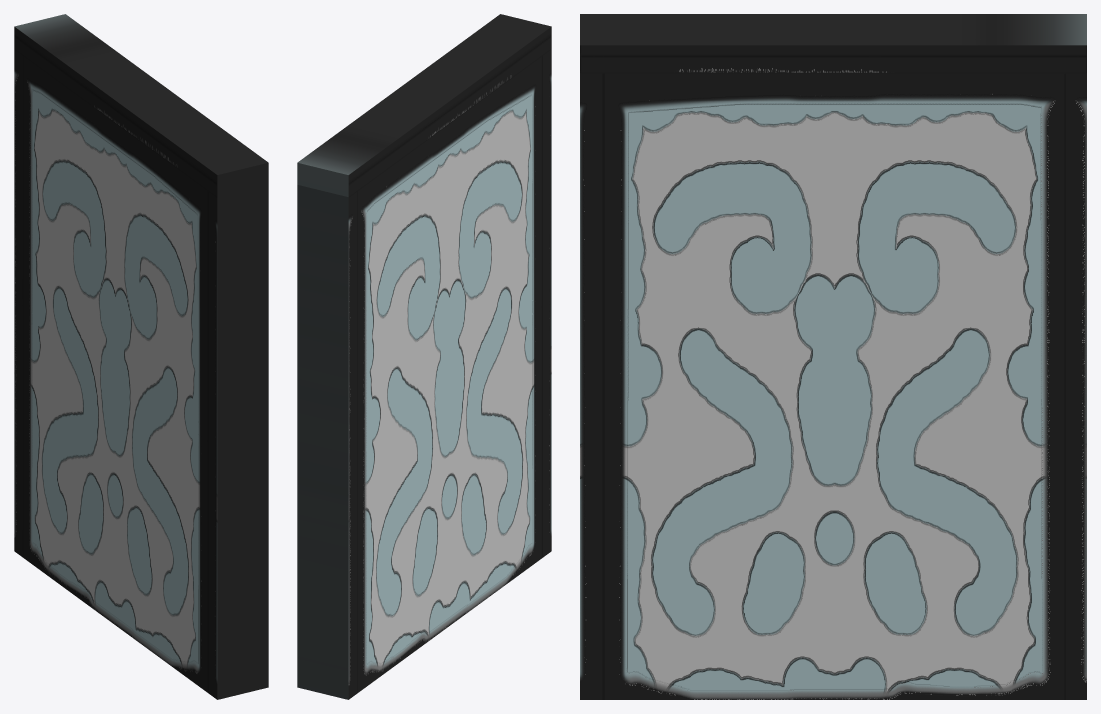
The model's file is Door_Prototype.fbx.
The picture shows the model from 3 angles, left to right: view 1: azimuth 30°, elevation 25°; view 2: azimuth 150°, elevation 25°; view 3: azimuth 270°, elevation 25°; orthographic projection. The views are drawn at different scales.
Parts seen in each view (by area): view 1: SlidingDoor_Prototype; view 2: SlidingDoor_Prototype; view 3: SlidingDoor_Prototype.
Boxes of the visible parts, left/top/right/bottom form: SlidingDoor_Prototype: left=14, top=14, right=268, bottom=699; SlidingDoor_Prototype: left=297, top=14, right=551, bottom=699; SlidingDoor_Prototype: left=580, top=14, right=1086, bottom=699.
Size of the model in its own units: 16 by 157 by 110.
Materials: 1 (1 with a texture image).
